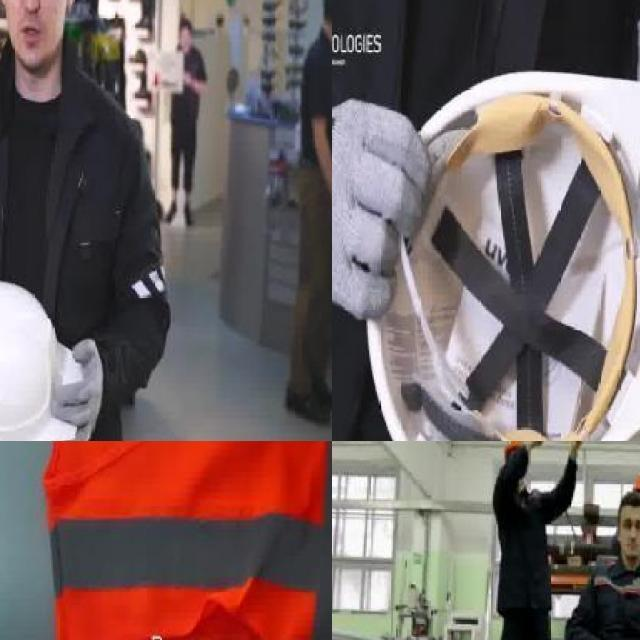apron: (332, 93, 431, 322), (48, 330, 104, 441)
